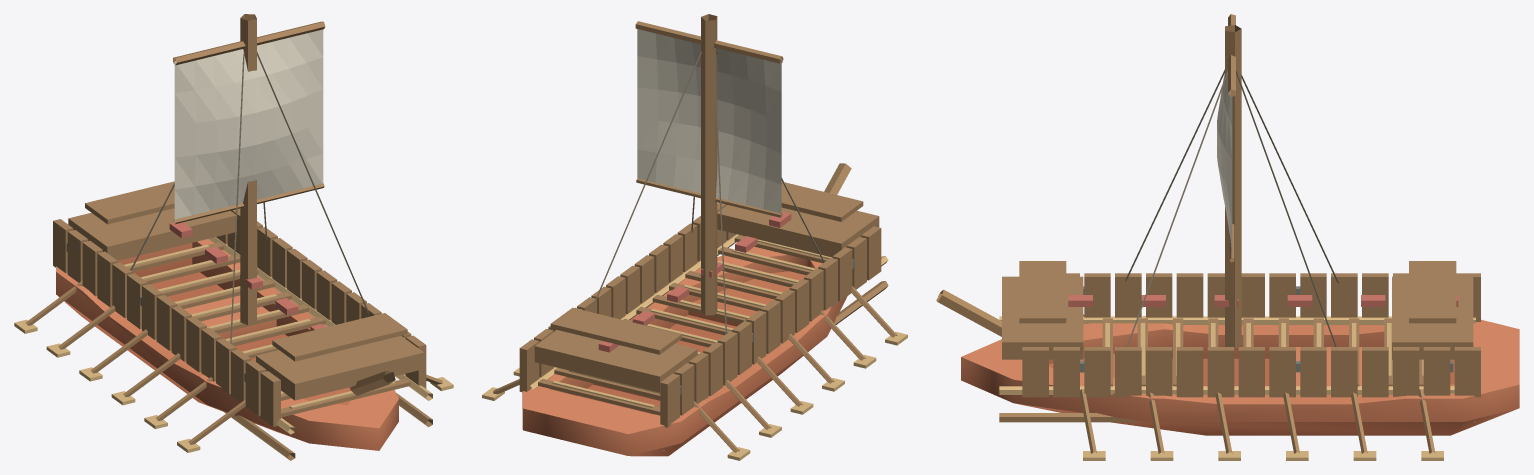
Rendered from sekibune-custom.glb.
The picture shows the model from 3 angles, left to right: view 1: azimuth 30°, elevation 25°; view 2: azimuth 150°, elevation 25°; view 3: azimuth 270°, elevation 25°; orthographic projection. The views are drawn at different scales.
Visible parts, largest first — view 1: sekibune wood, sekibune light, boat-row-small, sekibune gold, sekibune rope, sekibune red; view 2: sekibune wood, sekibune light, boat-row-small, sekibune gold, sekibune rope, sekibune red; view 3: sekibune wood, boat-row-small, sekibune gold, sekibune rope, sekibune light, sekibune red.
Part boxes in pixels (<box>): sekibune wood: <box>25,14,442,460</box>; sekibune light: <box>174,29,323,221</box>; boat-row-small: <box>56,239,398,450</box>; sekibune gold: <box>14,237,453,452</box>; sekibune rope: <box>130,52,368,343</box>; sekibune red: <box>169,222,325,330</box>; sekibune wood: <box>493,14,897,452</box>; sekibune light: <box>637,29,781,215</box>; boat-row-small: <box>522,246,847,456</box>; sekibune gold: <box>482,234,907,460</box>; sekibune rope: <box>593,50,824,334</box>; sekibune red: <box>598,211,791,352</box>; sekibune wood: <box>936,14,1480,453</box>; boat-row-small: <box>961,316,1519,435</box>; sekibune gold: <box>999,316,1475,460</box>; sekibune rope: <box>1125,69,1339,346</box>; sekibune light: <box>1217,73,1232,258</box>; sekibune red: <box>1068,295,1458,306</box>.
Bounding box in the file's own units: 5.9 × 7.65 × 10.78.
Materials: 7 (1 with a texture image).
